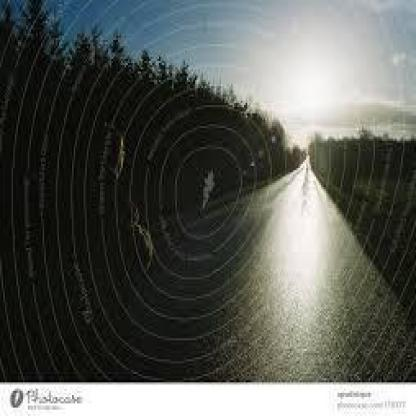other: (281, 180, 319, 302), (289, 63, 330, 118)
